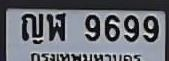6: (104, 14, 119, 40)
9: (123, 14, 138, 41), (84, 14, 99, 40), (142, 15, 157, 41)
A13: (21, 12, 44, 45)
A42: (46, 12, 65, 40)
